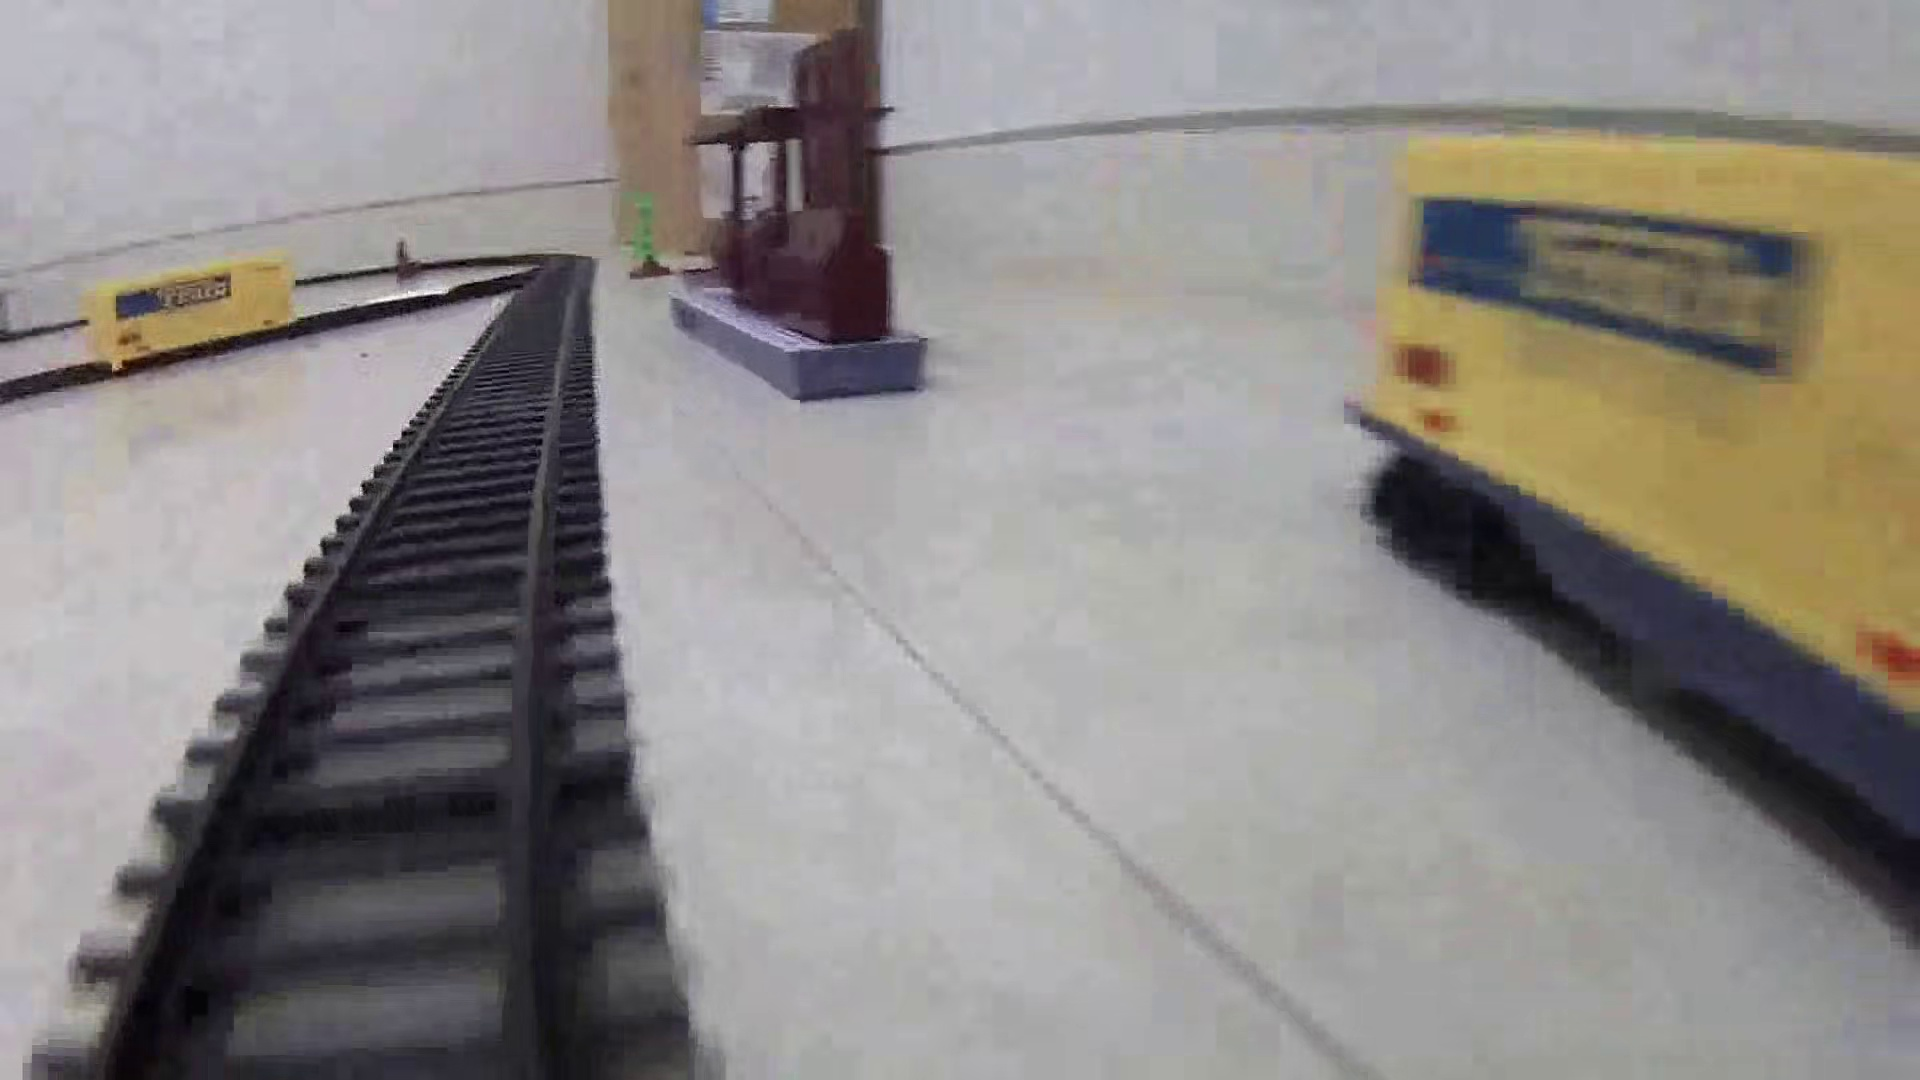tree: (625, 190, 682, 283)
